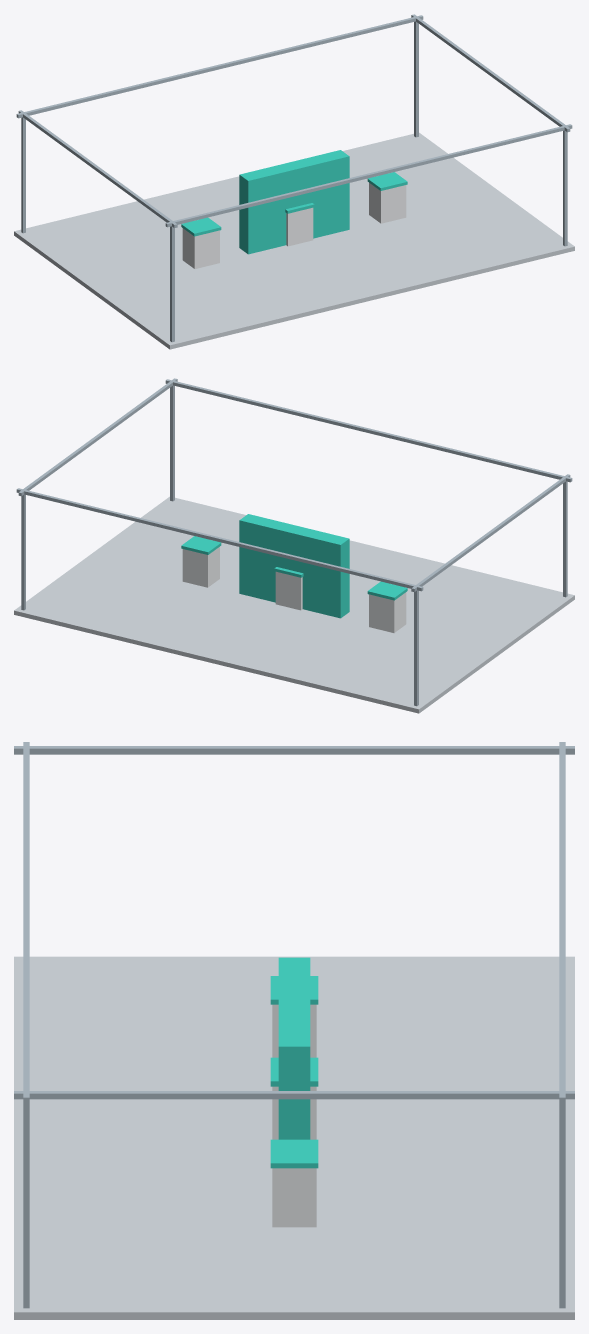
3 views of the same model, one above another, from view 1: azimuth 30°, elevation 25°; view 2: azimuth 150°, elevation 25°; view 3: azimuth 270°, elevation 25° (orthographic). The views are drawn at different scales.
Parts seen in each view (by area): view 1: Exhibition Booth Concept; view 2: Exhibition Booth Concept; view 3: Exhibition Booth Concept.
Boxes of the visible parts, x1,y1,x2,y2 form: Exhibition Booth Concept: (14,14,574,349); Exhibition Booth Concept: (14,378,574,713); Exhibition Booth Concept: (14,742,574,1319).
Size of the model in its own units: 12 by 3.49 by 8.
